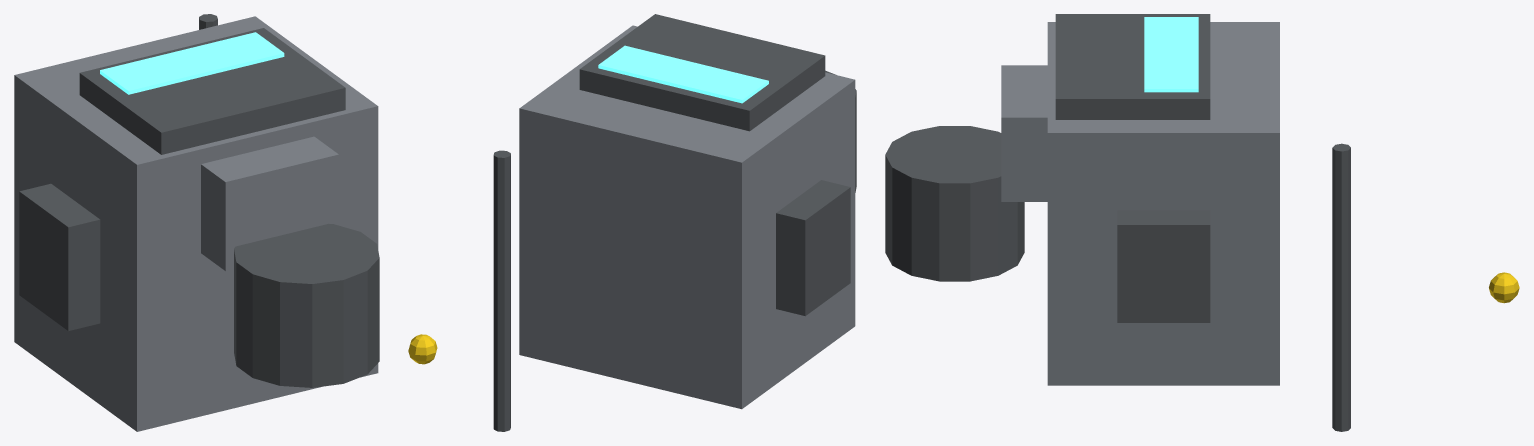
Rendered from head-scout.glb.
The picture shows the model from 3 angles, left to right: view 1: azimuth 30°, elevation 25°; view 2: azimuth 150°, elevation 25°; view 3: azimuth 270°, elevation 25°; orthographic projection. The views are drawn at different scales.
Visible parts, largest first — view 1: cranium, neck, faceplate, chin, ear_L, visor; view 2: cranium, faceplate, ear_L, antenna, visor, antenna_tip; view 3: cranium, neck, faceplate, ear_R, chin, antenna, visor, antenna_tip.
Part boxes in pixels (x1=…): cranium: x1=14, y1=16, x2=378, y2=431; neck: x1=234, y1=223, x2=379, y2=387; faceplate: x1=79, y1=28, x2=345, y2=154; chin: x1=201, y1=136, x2=338, y2=270; ear_L: x1=19, y1=183, x2=100, y2=330; visor: x1=100, y1=32, x2=284, y2=94; cranium: x1=519, y1=25, x2=855, y2=409; faceplate: x1=579, y1=14, x2=825, y2=131; ear_L: x1=776, y1=180, x2=850, y2=316; antenna: x1=493, y1=150, x2=510, y2=431; visor: x1=598, y1=45, x2=768, y2=103; antenna_tip: x1=408, y1=334, x2=437, y2=364; cranium: x1=1047, y1=22, x2=1279, y2=385; neck: x1=885, y1=126, x2=1024, y2=281; faceplate: x1=1055, y1=14, x2=1210, y2=119; ear_R: x1=1117, y1=210, x2=1210, y2=322; chin: x1=1001, y1=65, x2=1047, y2=201; antenna: x1=1332, y1=143, x2=1350, y2=431; visor: x1=1144, y1=17, x2=1198, y2=92; antenna_tip: x1=1489, y1=272, x2=1519, y2=303.
Bounding box in the file's own units: 0.43 × 0.465 × 0.82.
